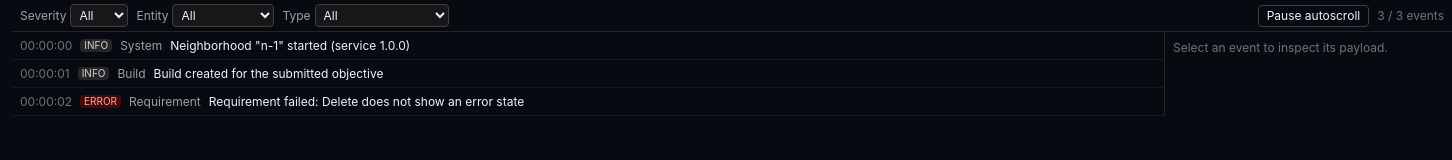
Test: EventTimeline — filtering › filters by event type
Step 1. Select "system.started" in the dropdown named "Filter by event type" → x=382, y=16, box [315,4,449,27]
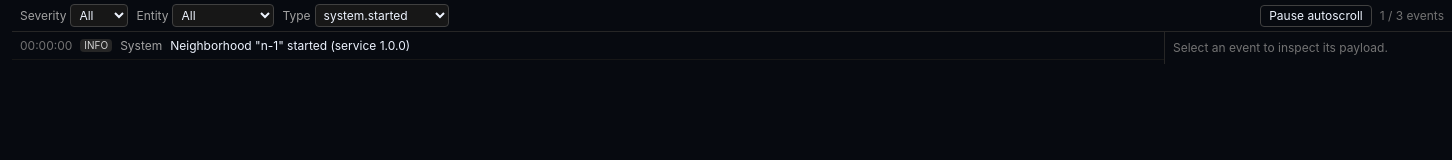
Expected: the number of buttons with test id "timeline-row" is 1, [12,32,1164,60]
